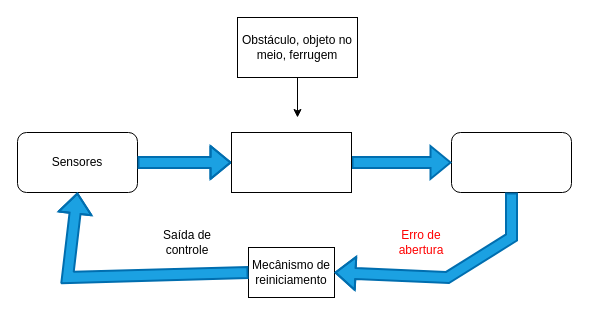
Some shapes in this 589 by 315 pixel diagram are drawn without their labels. Here are the shapes that lost their labels. From the top down, the centre of each, then its label:
At pixel 291 162: "Porta Automática (lógica)".
At pixel 511 162: "Motor".
